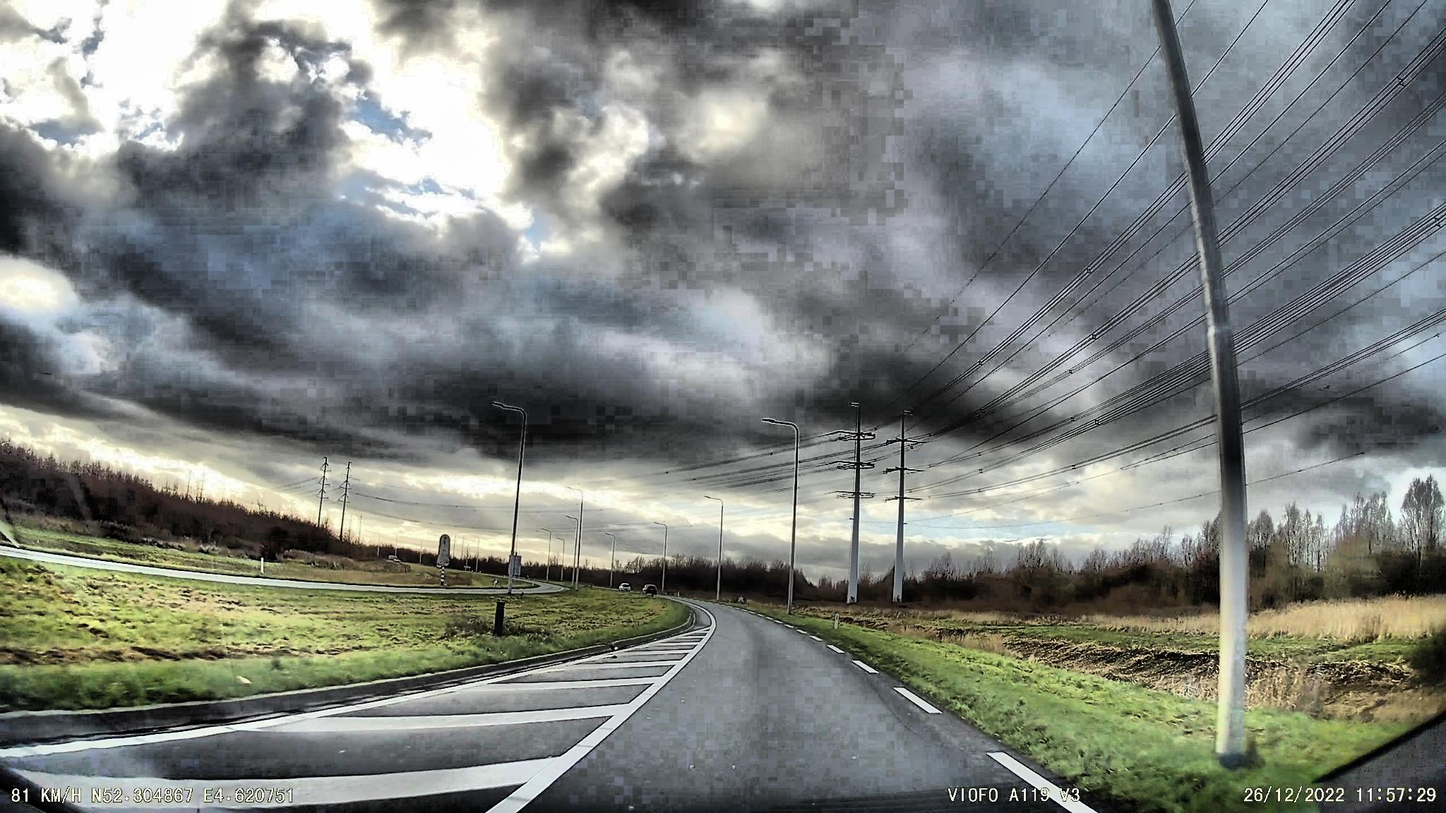Roads: (0, 603, 1098, 813)
